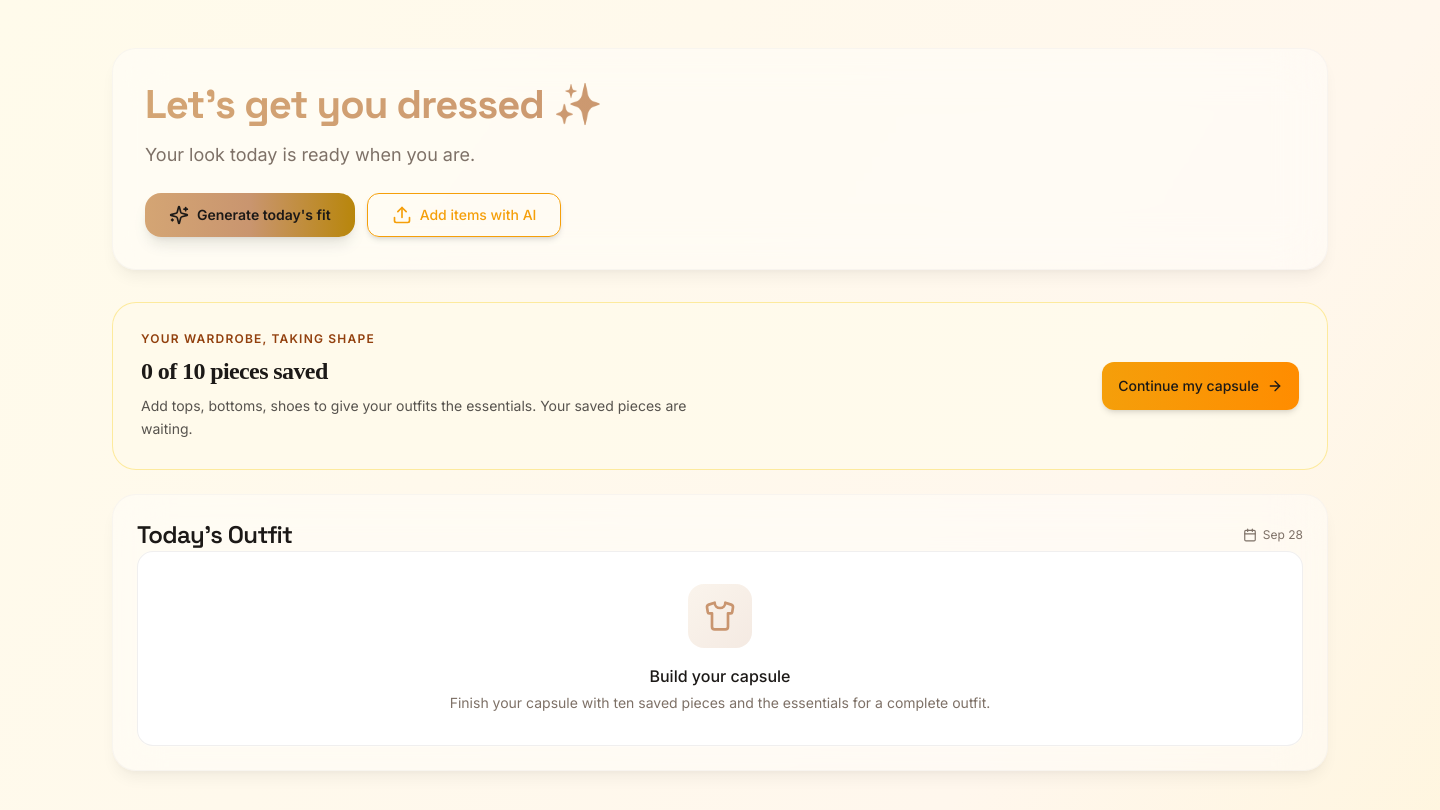
Test case: allows close button dismissal when no photos are pending
Click the button "Add items with AI".
click(464, 215)  # box [367,193,561,237]
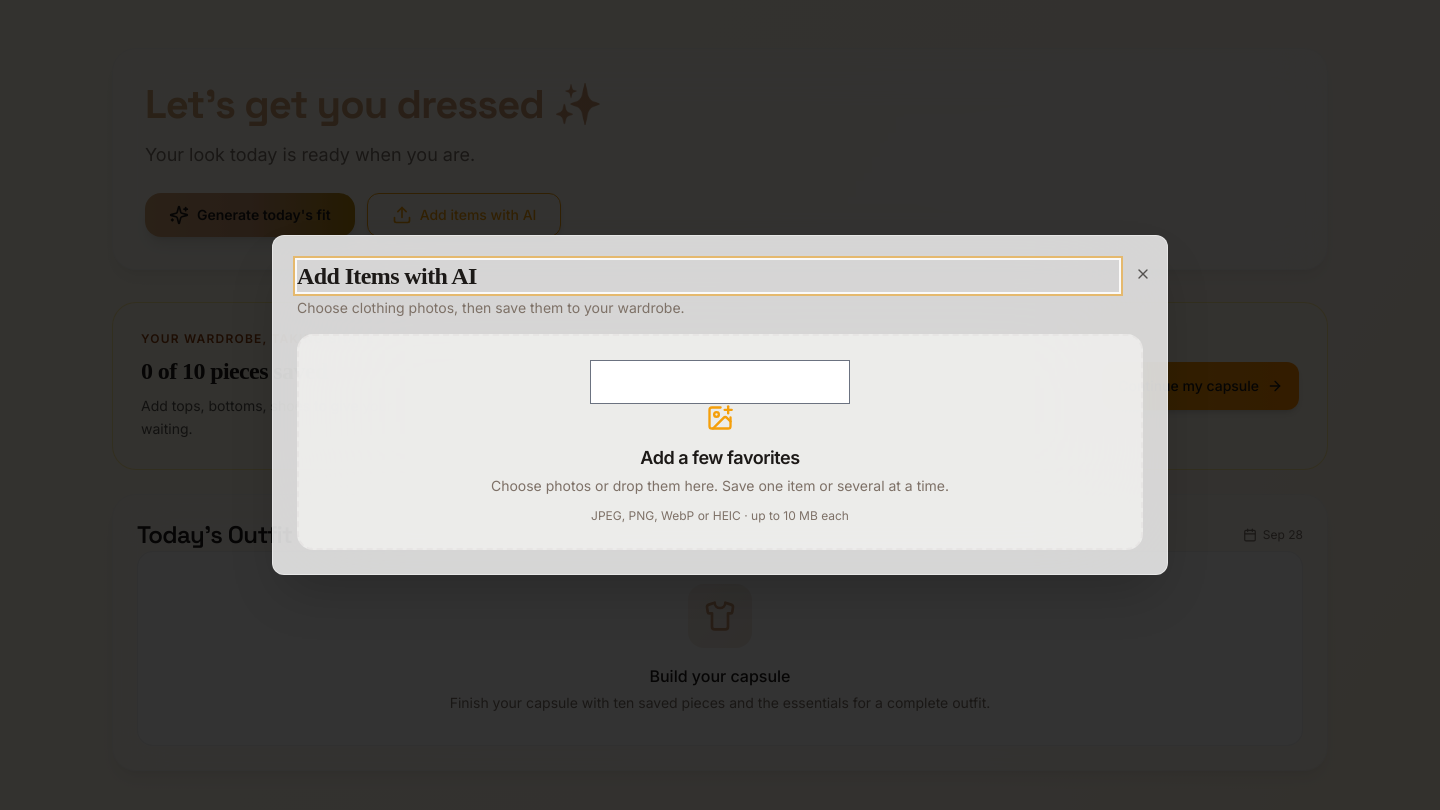
Click the button named "Close".
click(1143, 274)  # box [1135,252,1151,296]
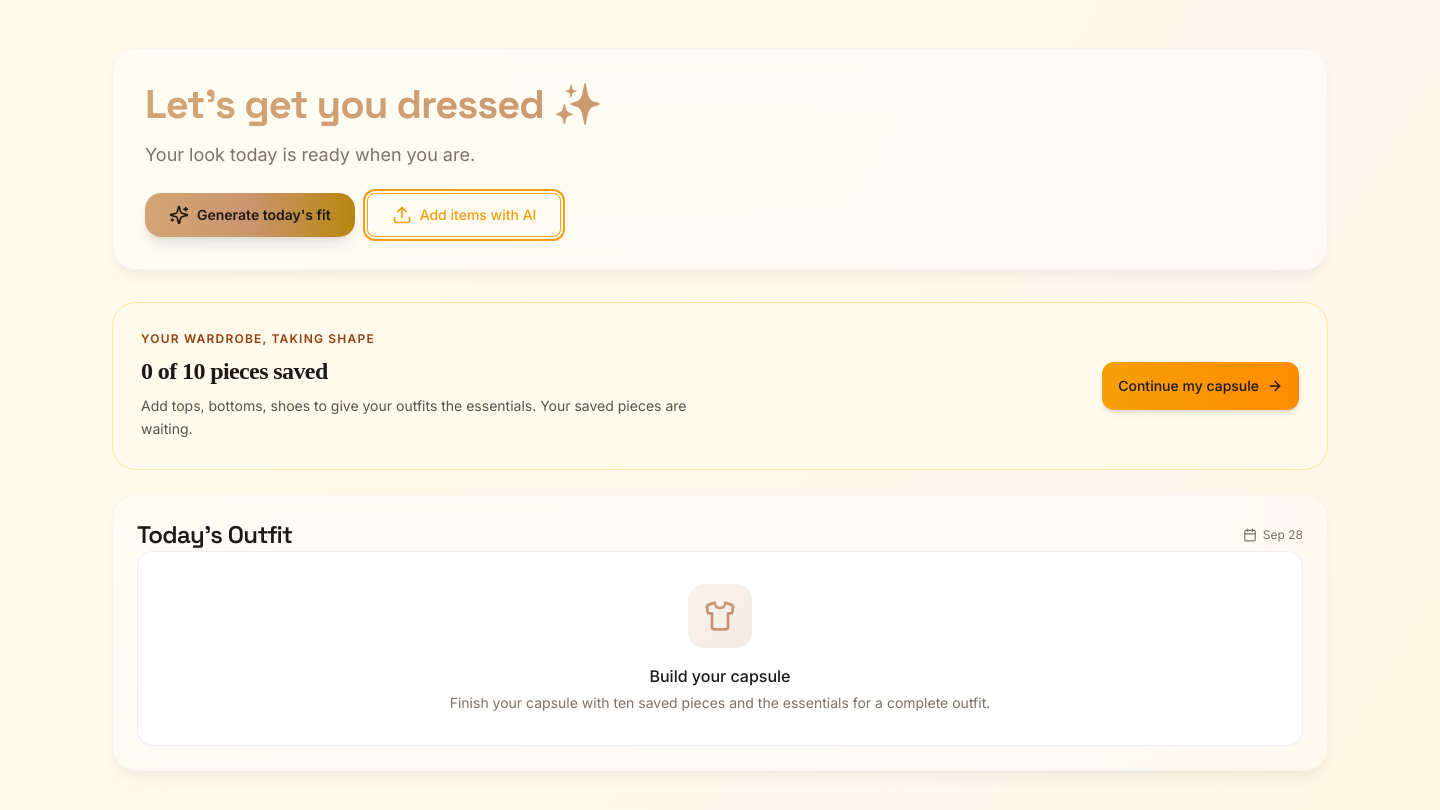
Check: the dialog is gone
